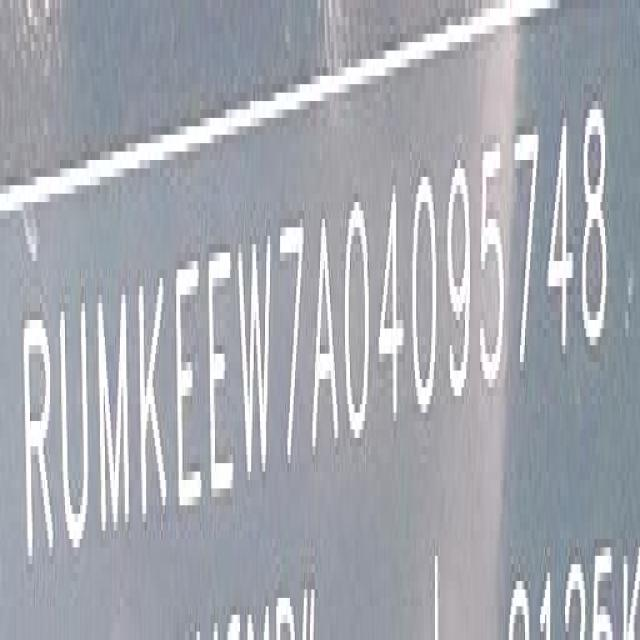0: (346, 202, 373, 448), (416, 166, 440, 422)
4: (549, 117, 576, 366), (381, 177, 406, 430)
5: (482, 137, 504, 398)
7: (511, 128, 539, 387), (283, 212, 309, 478)
8: (584, 97, 610, 350)
9: (448, 157, 473, 406)
A: (312, 213, 340, 462)
E: (178, 253, 205, 518), (209, 238, 234, 506)
K: (136, 274, 172, 540)
M: (95, 292, 132, 537)
R: (27, 311, 54, 564)
U: (60, 301, 90, 558)
W: (236, 225, 274, 492)
